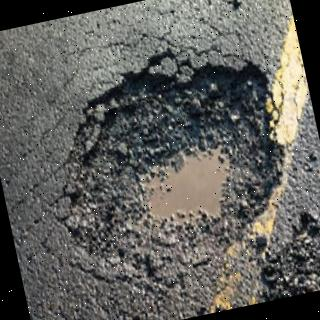pothole: (65, 51, 283, 252)
